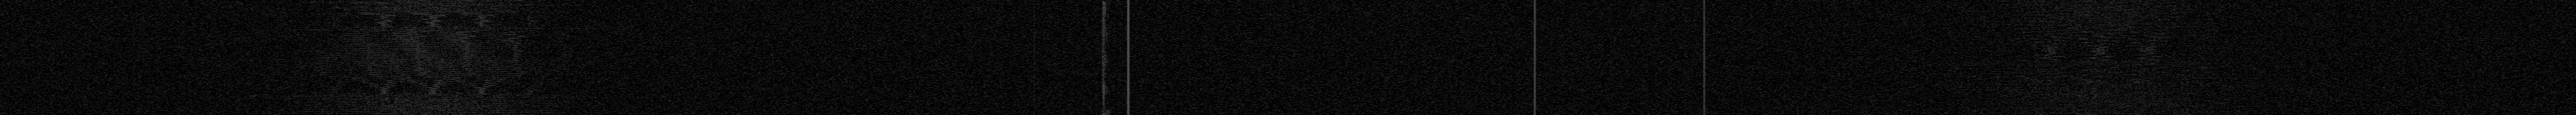wv_am: (1533, 0, 1536, 115), (1033, 0, 1035, 115)
wv_cw: (1702, 0, 1707, 115), (1127, 0, 1130, 115)
wv_usb: (1101, 0, 1111, 115)
wv_wbfm: (217, 0, 626, 115), (1935, 67, 2297, 115), (1962, 0, 2241, 36), (1953, 43, 2257, 67), (2045, 34, 2175, 43), (2026, 38, 2075, 43), (2173, 38, 2219, 41), (2192, 36, 2223, 38), (1996, 36, 2026, 38), (1983, 41, 2004, 43), (1991, 39, 2012, 41), (2178, 41, 2195, 43), (2238, 23, 2252, 25), (1950, 25, 1963, 26), (1932, 84, 1945, 85), (1960, 21, 1965, 23), (1953, 21, 1958, 23), (2297, 85, 2302, 87), (1934, 87, 1935, 89)
